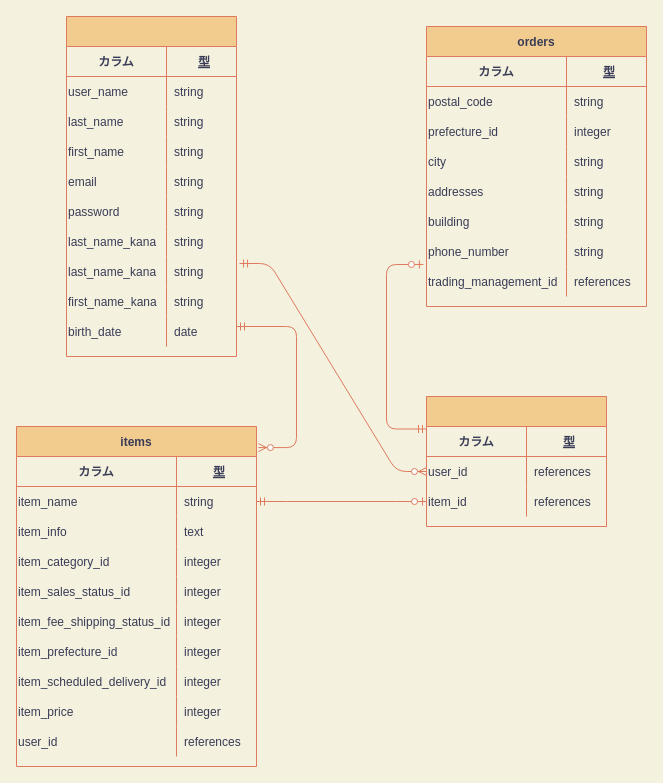
This 663x783 diagram has some shape labels left out. The box of each missing label's shape, as (x1, y1, x2, y2) in pixels:
trading_managements: (426, 396, 606, 526)
users: (66, 16, 236, 356)
